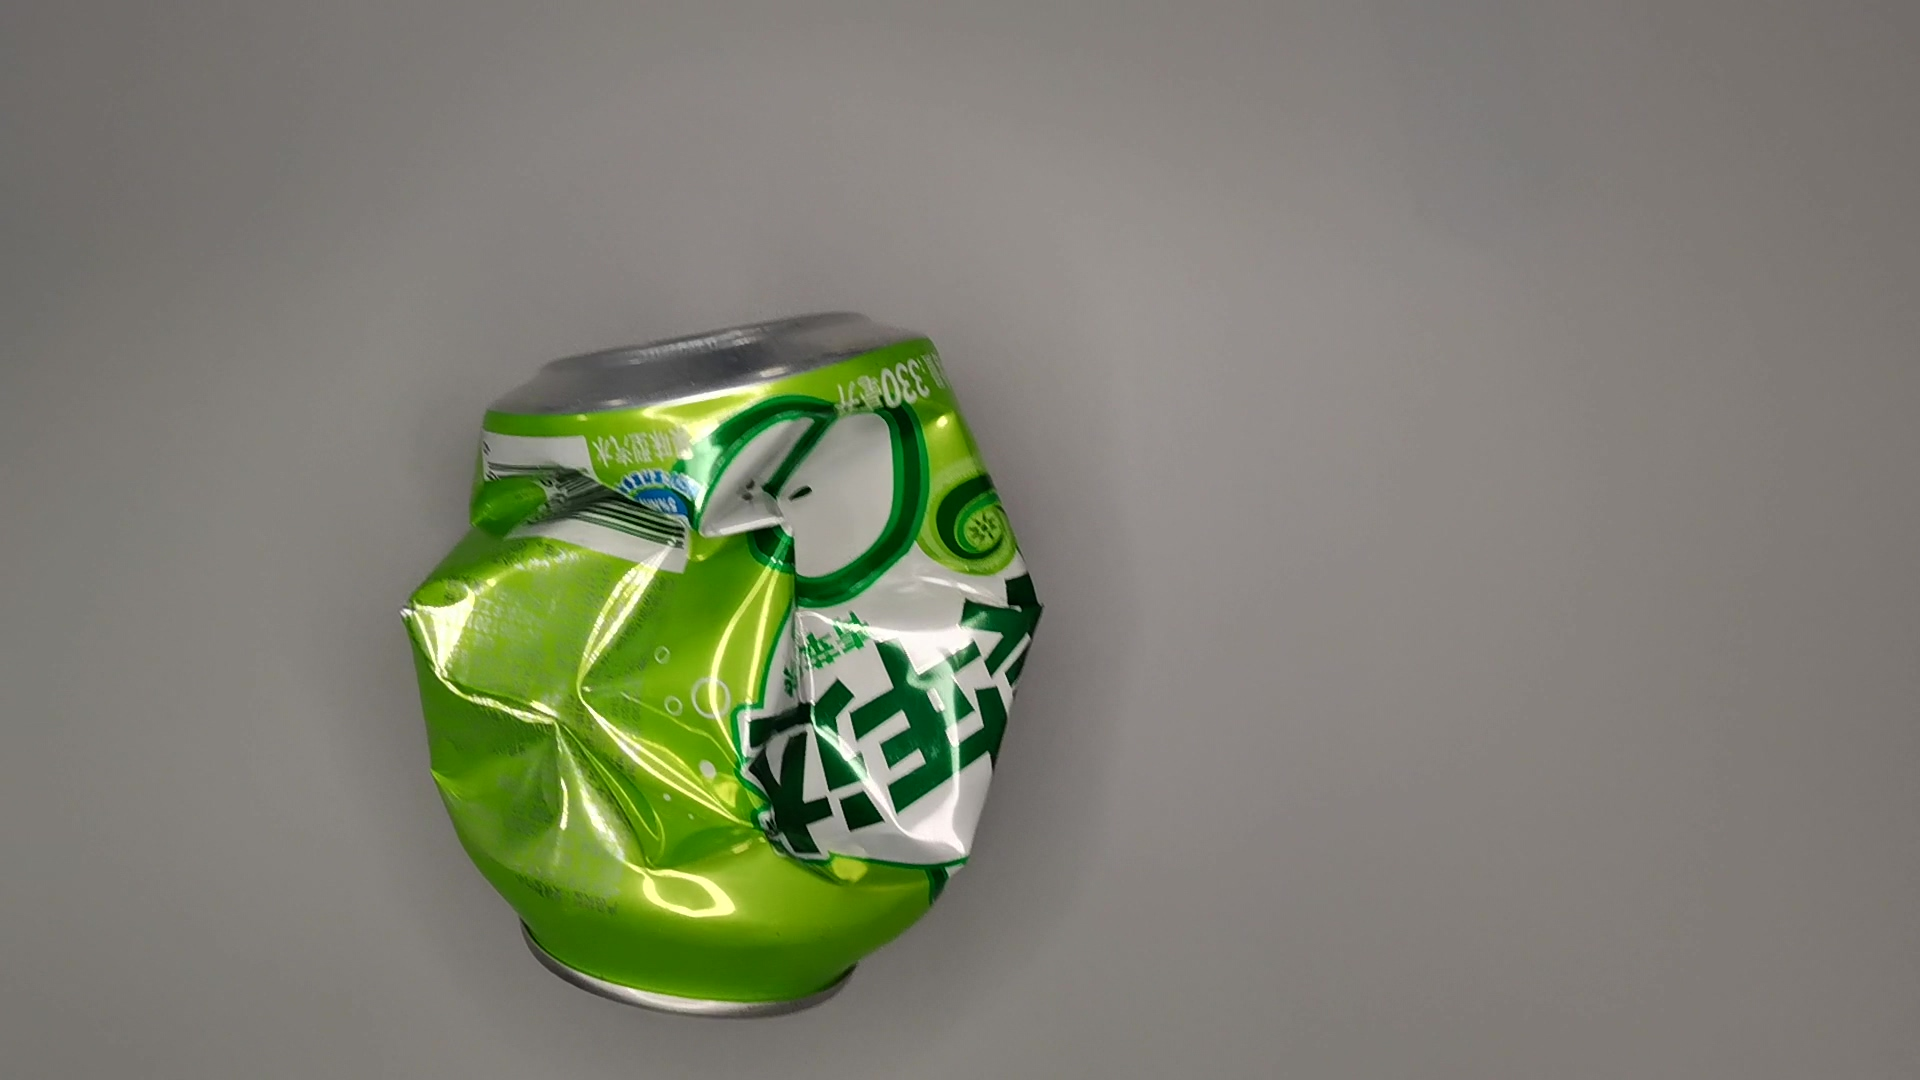can: (384, 301, 1060, 1036)
